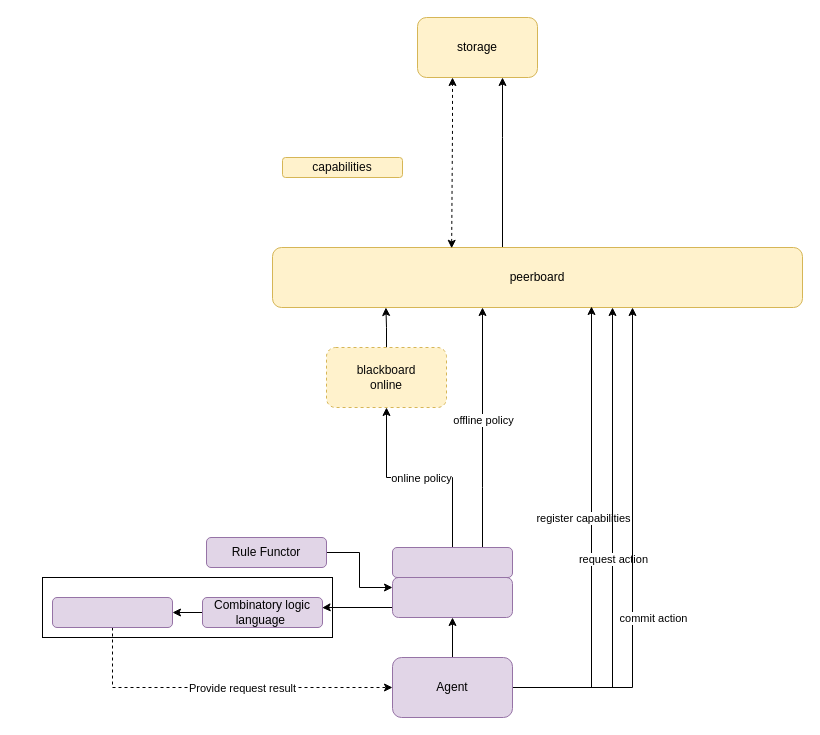
This 820x735 diagram has some shape labels left out. The centre of each missing label's shape, as x and y in pixels:
"blackboard" goes at point 452,597.
"policy blackboard" goes at point 452,562.
"SAT Solver" goes at point 112,612.
